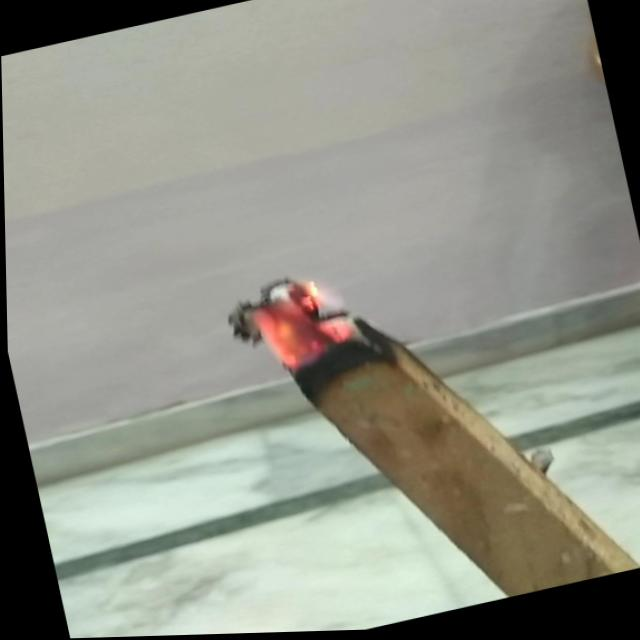fire: (233, 261, 363, 385)
